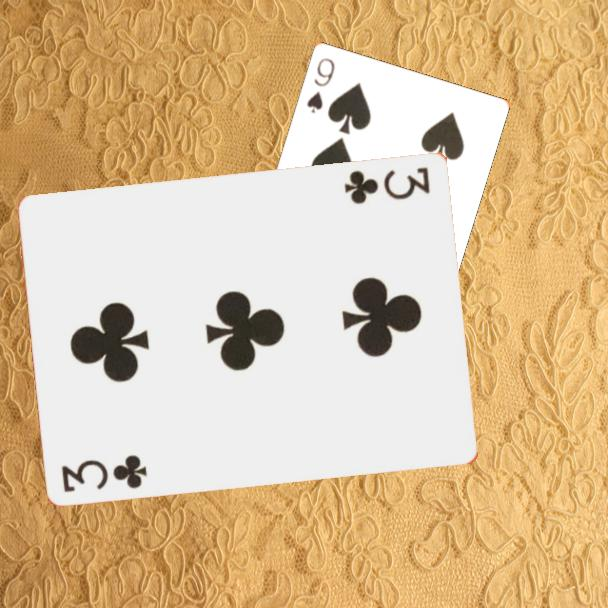c03: (341, 163, 433, 207), (58, 451, 150, 495)
s09: (303, 54, 337, 116)
